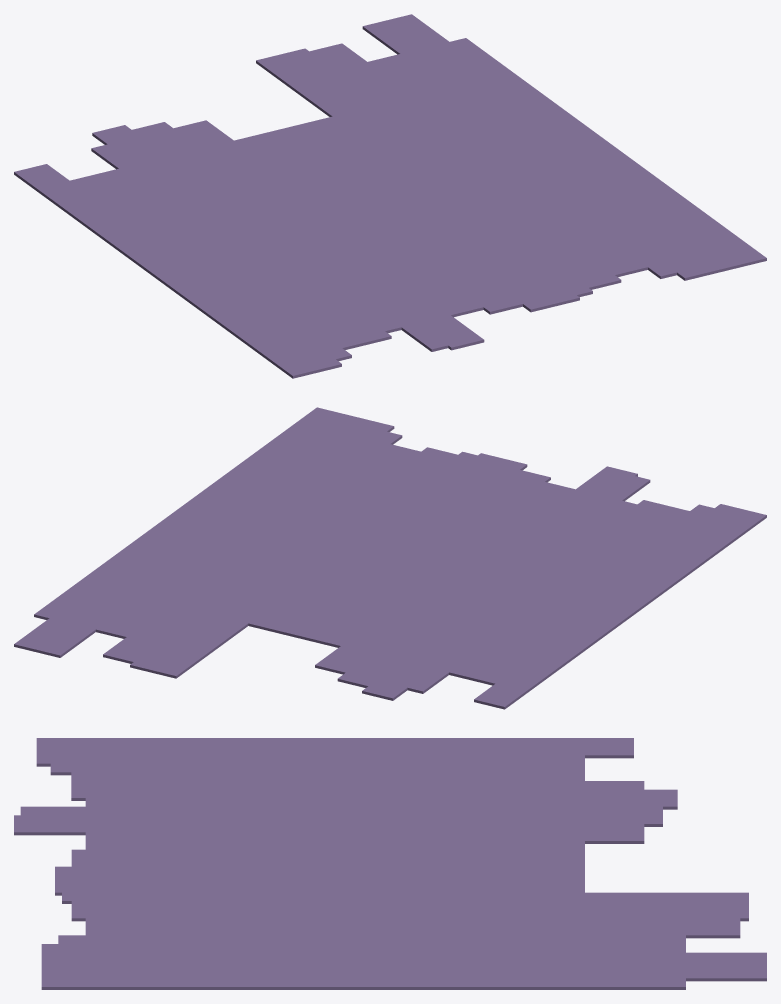
Rendered from woodenfloor4_lp.fbx.
3 views of the same model, one above another, from view 1: azimuth 30°, elevation 25°; view 2: azimuth 150°, elevation 25°; view 3: azimuth 270°, elevation 25° (orthographic). The views are drawn at different scales.
Visible parts, largest first — view 1: woodenfloor4_LP; view 2: woodenfloor4_LP; view 3: woodenfloor4_LP.
Part boxes in pixels (x1,y1,x2,y2): woodenfloor4_LP: (14,14,766,378); woodenfloor4_LP: (14,407,766,709); woodenfloor4_LP: (14,738,766,989).
Size of the model in its own units: 935 by 5.16 by 1196.
